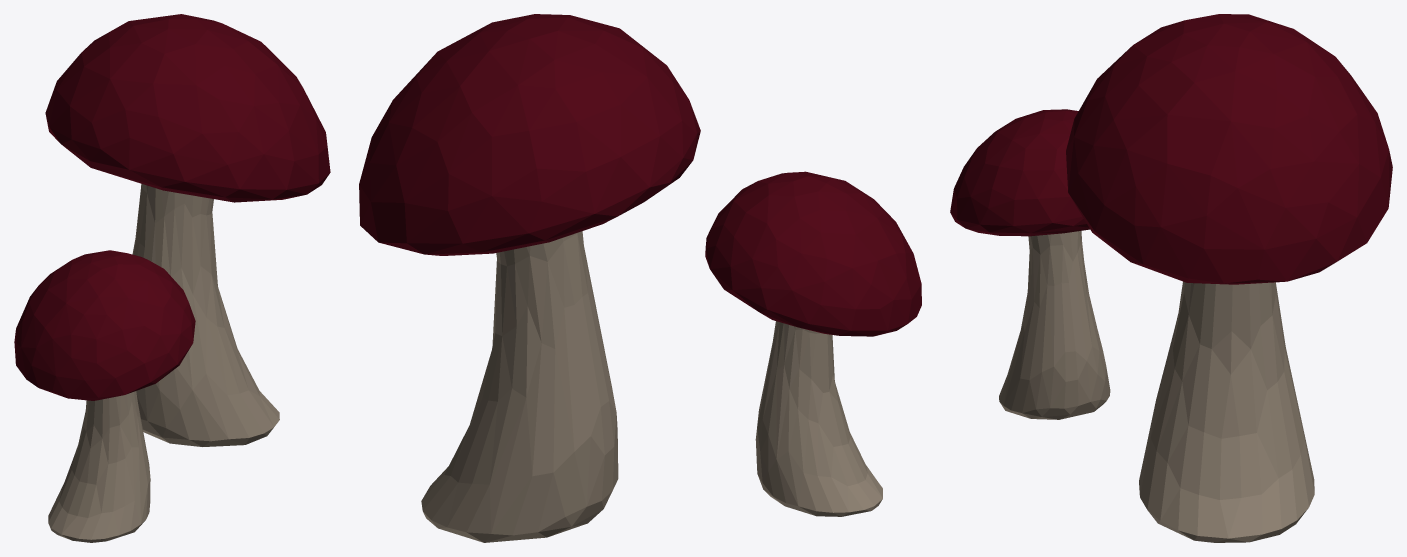
File: mushroom2.fbx
3 views of the same model, side by side, from view 1: azimuth 30°, elevation 25°; view 2: azimuth 150°, elevation 25°; view 3: azimuth 270°, elevation 25° (orthographic). The views are drawn at different scales.
Parts seen in each view (by area): view 1: mushroom.001; view 2: mushroom.001; view 3: mushroom.001.
Part boxes in pixels (x1,y1,x2,y2): mushroom.001: [14, 14, 330, 542]; mushroom.001: [359, 14, 921, 542]; mushroom.001: [950, 14, 1392, 542].
Size of the model in its own units: 23.71 by 26.76 by 22.13.
